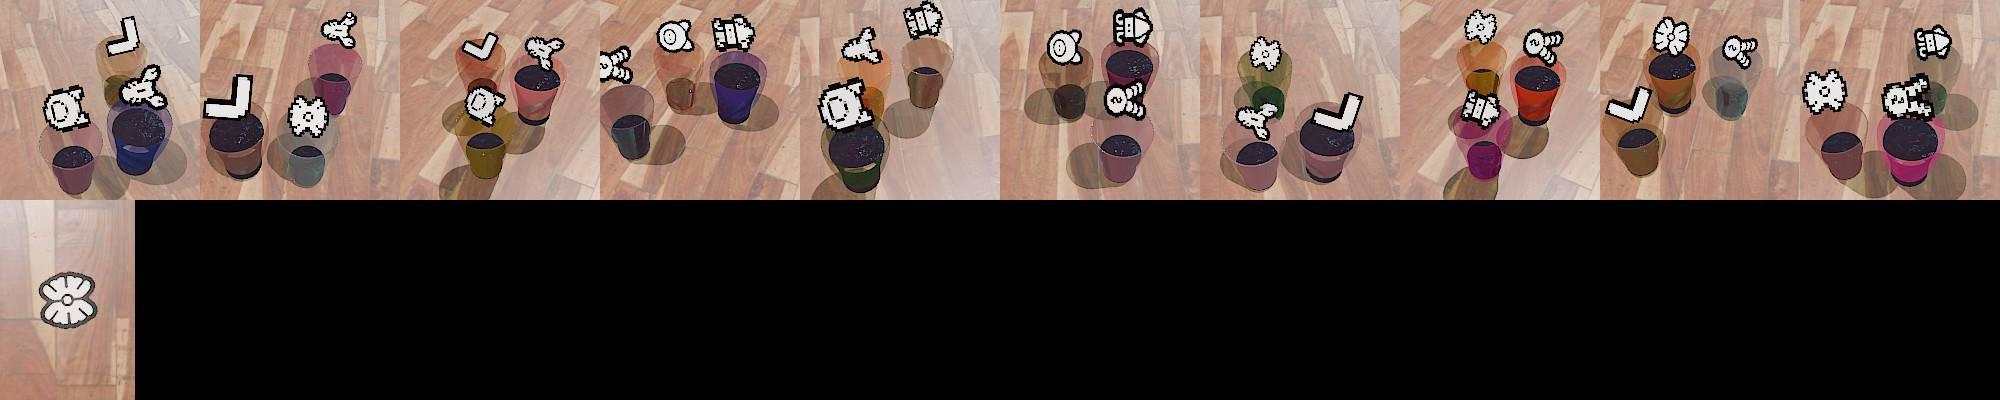icon: (36, 271, 97, 329), (817, 79, 874, 131), (1880, 72, 1935, 120), (1309, 89, 1365, 133), (204, 72, 255, 120), (41, 85, 91, 132), (1801, 68, 1847, 116), (119, 63, 166, 108), (1604, 82, 1652, 123), (286, 93, 329, 138), (1102, 79, 1148, 120), (463, 83, 506, 126), (711, 13, 758, 52), (904, 0, 948, 41), (1459, 91, 1503, 131), (1111, 5, 1153, 46), (1236, 101, 1277, 141), (1523, 26, 1565, 65), (1915, 23, 1956, 62), (1651, 16, 1690, 57), (105, 15, 142, 57), (1045, 27, 1084, 66), (841, 26, 882, 63), (321, 11, 358, 50), (599, 45, 635, 85), (523, 34, 565, 68), (655, 18, 695, 53), (1246, 35, 1283, 71), (1463, 9, 1498, 45), (461, 30, 500, 62), (1721, 35, 1757, 69)
